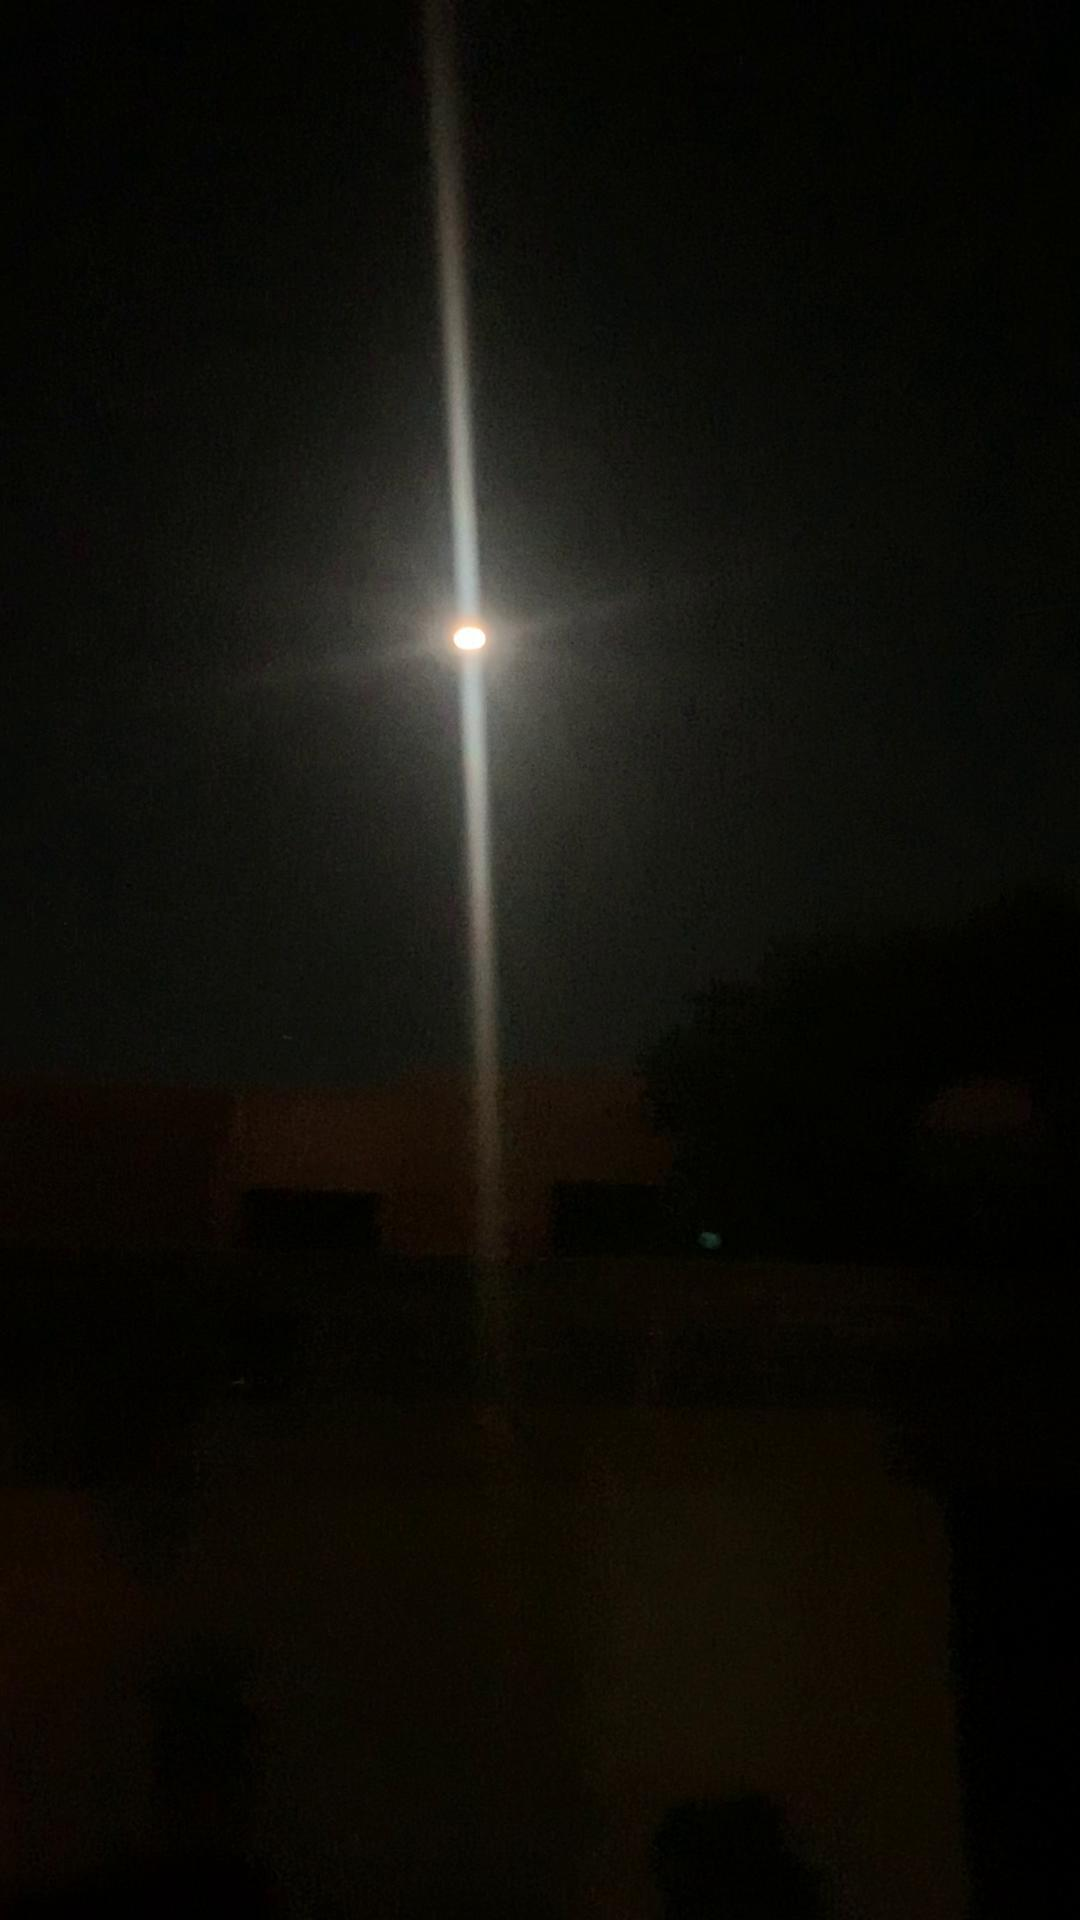moon: (435, 604, 510, 683)
